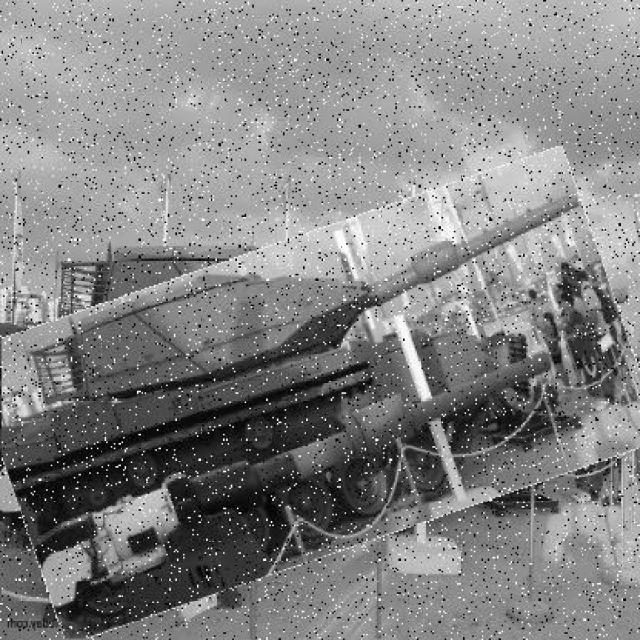Tank: (3, 193, 640, 601)
